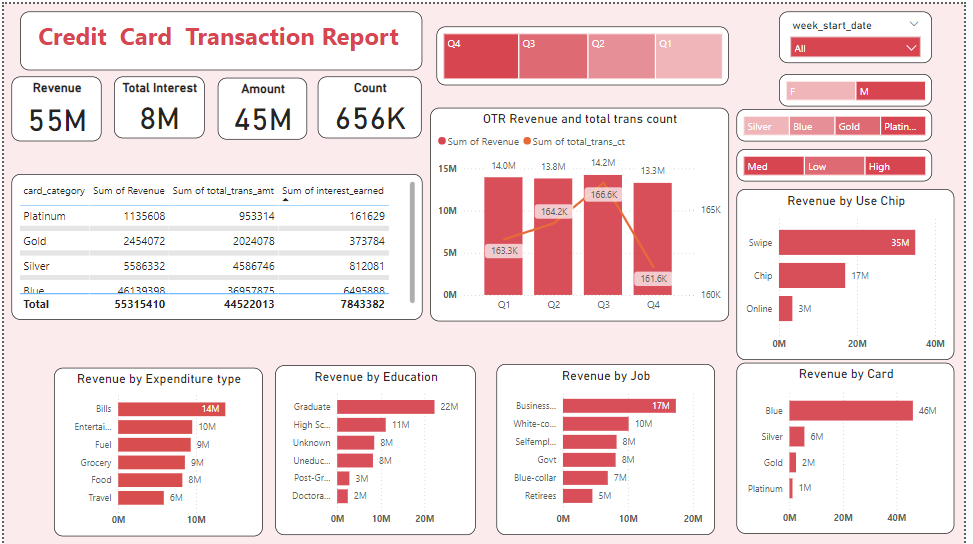

The dashboard page shown, as its layout file describes it:
{"tool":"powerbi","page":{"name":"cc_transaction","canvas":[1280,720],"ordinal":1},"visuals":[{"type":"lineStackedColumnComboChart","title":"OTR Revenue and total trans count","fields":{"Category":["public cc_detail.qtr"],"Y":["Sum(public cc_detail.Revenue)"],"Y2":["Sum(public cc_detail.total_trans_ct)"]},"box":[568.2,138.7,398.1,284.7],"z":0},{"type":"barChart","title":"Revenue by Expenditure type","fields":{"Category":["public cc_detail.exp_type"],"Y":["Sum(public cc_detail.Revenue)"]},"box":[65.9,484.4,278.6,225],"z":1000},{"type":"barChart","title":"Revenue by Education","fields":{"Category":["public cust_detail.education_level"],"Y":["Sum(public cc_detail.Revenue)"]},"box":[360.9,481.6,267.6,226.4],"z":2000},{"type":"barChart","title":"Revenue by Job","fields":{"Category":["public cust_detail.customer_job"],"Y":["Sum(public cc_detail.Revenue)"]},"box":[657.3,480.3,290.9,227.8],"z":3000},{"type":"barChart","title":"Revenue by Card","fields":{"Category":["public cc_detail.card_category"],"Y":["Sum(public cc_detail.Revenue)"]},"box":[977.2,479,290.8,228],"z":4000},{"type":"barChart","title":"Revenue by Use Chip","fields":{"Category":["public cc_detail.use_chip"],"Y":["Sum(public cc_detail.Revenue)"]},"box":[977.2,246.1,290.8,228],"z":5000},{"type":"tableEx","fields":{"Values":["public cc_detail.card_category","Sum(public cc_detail.Revenue)","Sum(public cc_detail.total_trans_amt)","Sum(public cc_detail.interest_earned)"]},"box":[9.7,226.8,547.7,194.2],"z":6000},{"type":"card","title":"Revenue","fields":{"Values":["Sum(public cc_detail.Revenue)"]},"box":[9.6,96.1,120,86.4],"z":7000},{"type":"card","title":"Amount","fields":{"Values":["Sum(public cc_detail.total_trans_amt)"]},"box":[284.7,97.7,119.4,82],"z":8000},{"type":"card","title":"Total Interest","fields":{"Values":["Sum(public cc_detail.interest_earned)"]},"box":[147.2,96.5,120.6,82],"z":9000},{"type":"card","title":"Count","fields":{"Values":["Sum(public cc_detail.total_trans_ct)"]},"box":[418.6,96.5,138.7,82],"z":10000},{"type":"slicer","fields":{"Values":["public cc_detail.week_start_date"]},"box":[1033.9,9.7,203.9,68.8],"z":11000},{"type":"treemap","fields":{"Group":["public cc_detail.qtr"],"Values":["Avg(public cc_detail.client_num)"]},"box":[576.7,30.2,389.7,78.4],"z":12000},{"type":"treemap","fields":{"Group":["public cust_detail.gender"],"Values":["Avg(public cc_detail.client_num)"]},"box":[1032.7,94.1,203.9,43.4],"z":13000},{"type":"treemap","fields":{"Group":["public cc_detail.card_category"],"Values":["Avg(public cc_detail.client_num)"]},"box":[977.2,139.9,260.6,43.4],"z":14000},{"type":"treemap","fields":{"Group":["public cust_detail.IncomeGroup"],"Values":["Avg(public cc_detail.client_num)"]},"box":[977.2,193,260.6,43.4],"z":15000},{"type":"textbox","box":[21.7,9.7,535.7,78.4],"z":16000}]}

Visuals, with their boxes in screenshot pixels (x1, y1, x2, y2), scaled from the page's 1280x720 canvas onto the 973x544 screenshot:
"OTR Revenue and total trans count" lineStackedColumnComboChart: pyautogui.locateOnScreen(432, 105, 735, 320)
"Revenue by Expenditure type" barChart: pyautogui.locateOnScreen(50, 366, 262, 536)
"Revenue by Education" barChart: pyautogui.locateOnScreen(274, 364, 478, 535)
"Revenue by Job" barChart: pyautogui.locateOnScreen(500, 363, 721, 535)
"Revenue by Card" barChart: pyautogui.locateOnScreen(743, 362, 964, 534)
"Revenue by Use Chip" barChart: pyautogui.locateOnScreen(743, 186, 964, 358)
tableEx - public cc_detail.card_category x Sum(public cc_detail.Revenue): pyautogui.locateOnScreen(7, 171, 424, 318)
"Revenue" card: pyautogui.locateOnScreen(7, 73, 99, 138)
"Amount" card: pyautogui.locateOnScreen(216, 74, 307, 136)
"Total Interest" card: pyautogui.locateOnScreen(112, 73, 204, 135)
"Count" card: pyautogui.locateOnScreen(318, 73, 424, 135)
slicer - public cc_detail.week_start_date: pyautogui.locateOnScreen(786, 7, 941, 59)
treemap - public cc_detail.qtr x Avg(public cc_detail.client_num): pyautogui.locateOnScreen(438, 23, 735, 82)
treemap - public cust_detail.gender x Avg(public cc_detail.client_num): pyautogui.locateOnScreen(785, 71, 940, 104)
treemap - public cc_detail.card_category x Avg(public cc_detail.client_num): pyautogui.locateOnScreen(743, 106, 941, 138)
treemap - public cust_detail.IncomeGroup x Avg(public cc_detail.client_num): pyautogui.locateOnScreen(743, 146, 941, 179)
textbox: pyautogui.locateOnScreen(16, 7, 424, 67)
